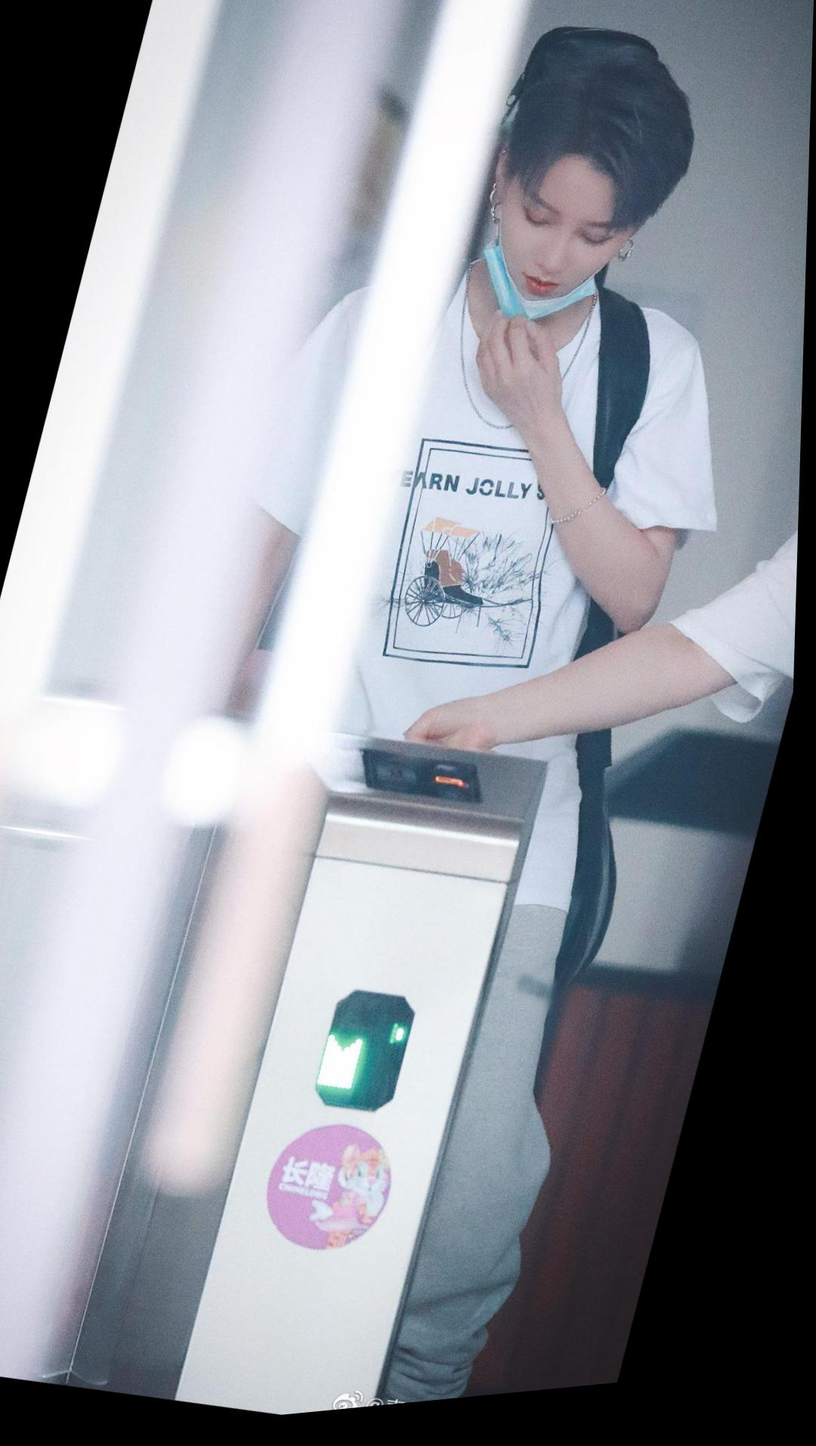WRONG: (481, 161, 644, 351)
